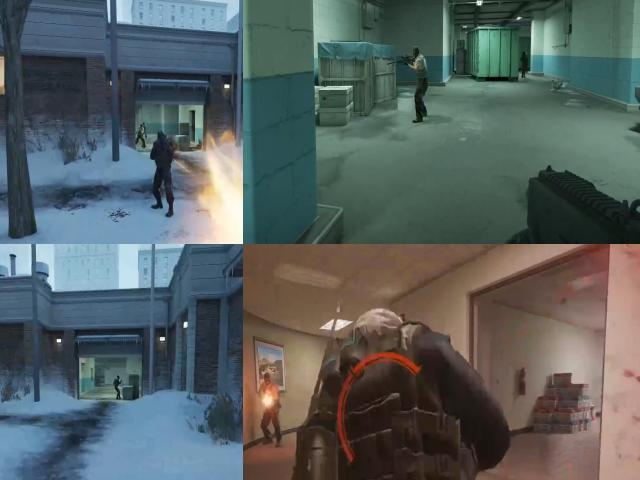CT: (148, 127, 176, 183), (114, 374, 122, 394)
CT-Head: (154, 128, 169, 146), (116, 375, 121, 380)
T: (258, 368, 282, 416), (410, 43, 430, 91)
T-Head: (264, 373, 275, 388), (412, 46, 421, 61)
